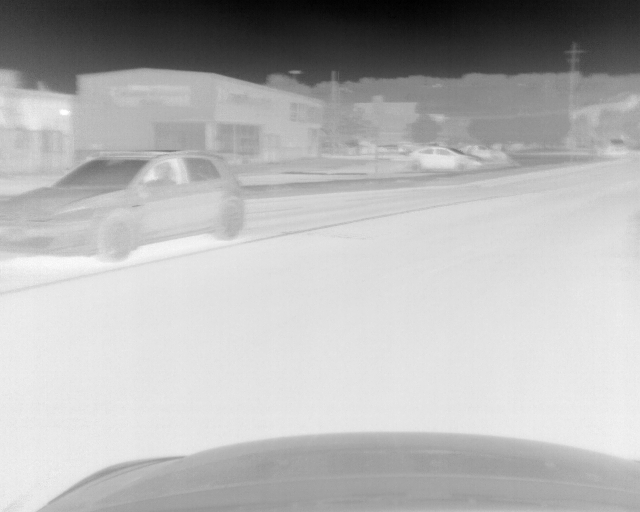car: (1, 148, 246, 263), (406, 143, 478, 174), (457, 144, 516, 170)
